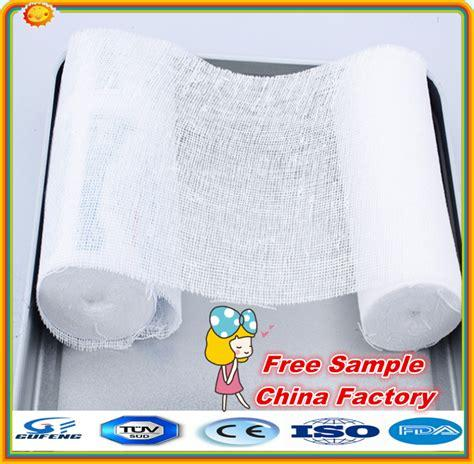cotton: (48, 29, 465, 353)
